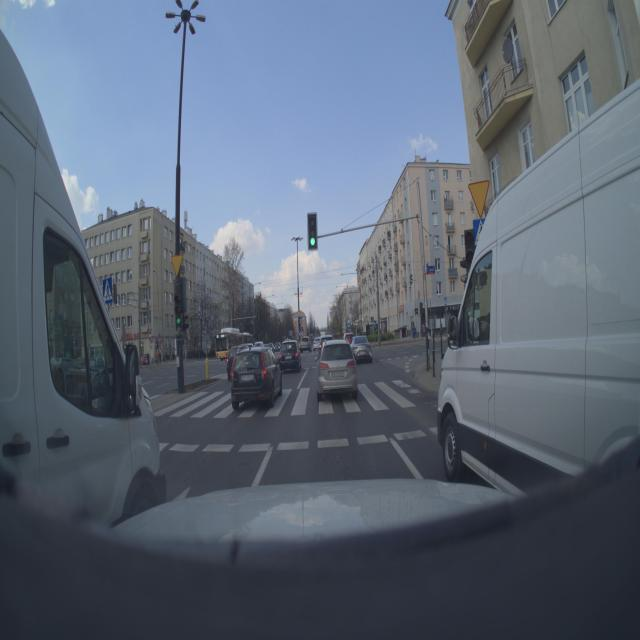green_light: (304, 210, 324, 249), (171, 294, 186, 338)
